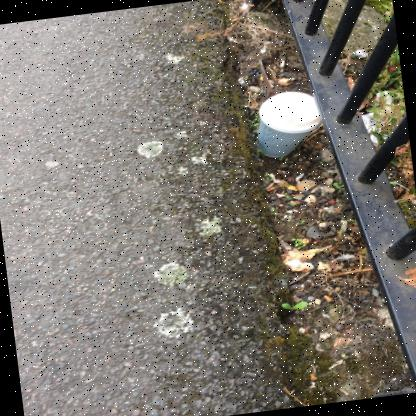Normal paper: (361, 112, 381, 146)
Paper cup: (257, 91, 322, 157)
Plastic lid: (259, 91, 321, 131)
Unlabeled litter: (355, 48, 368, 58)
